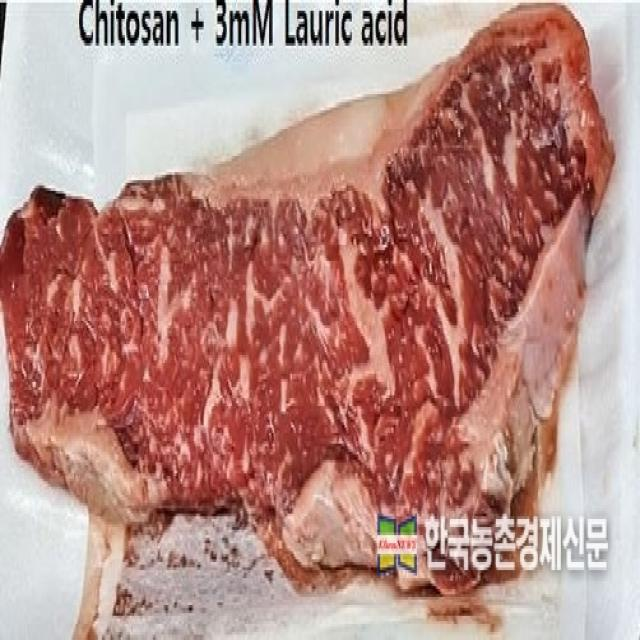pork: (0, 20, 608, 563)
